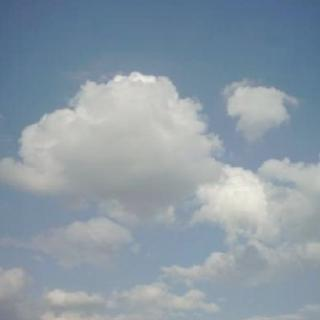Cumulus: (0, 67, 320, 320)
